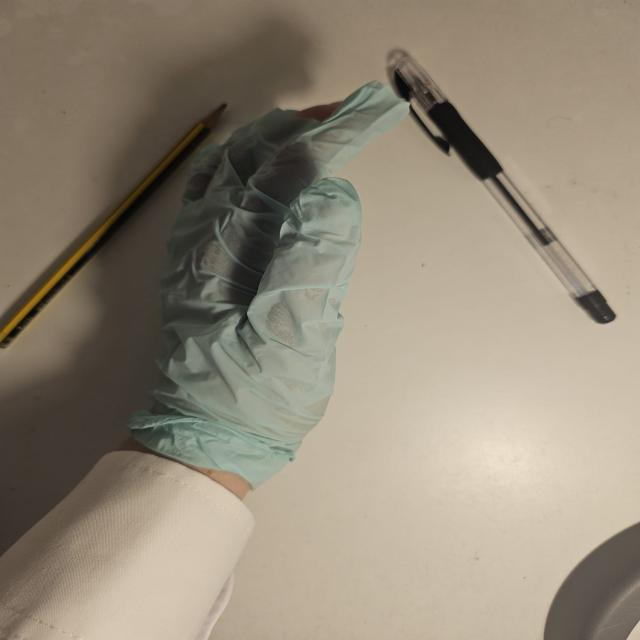gloves_damaged: (108, 81, 415, 491)
